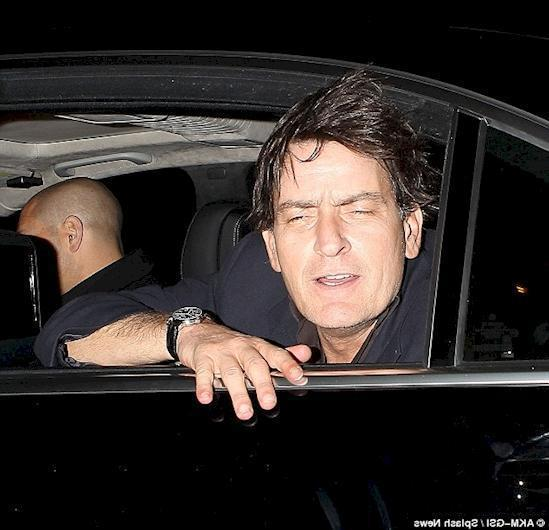Drunk: (264, 145, 404, 324)
